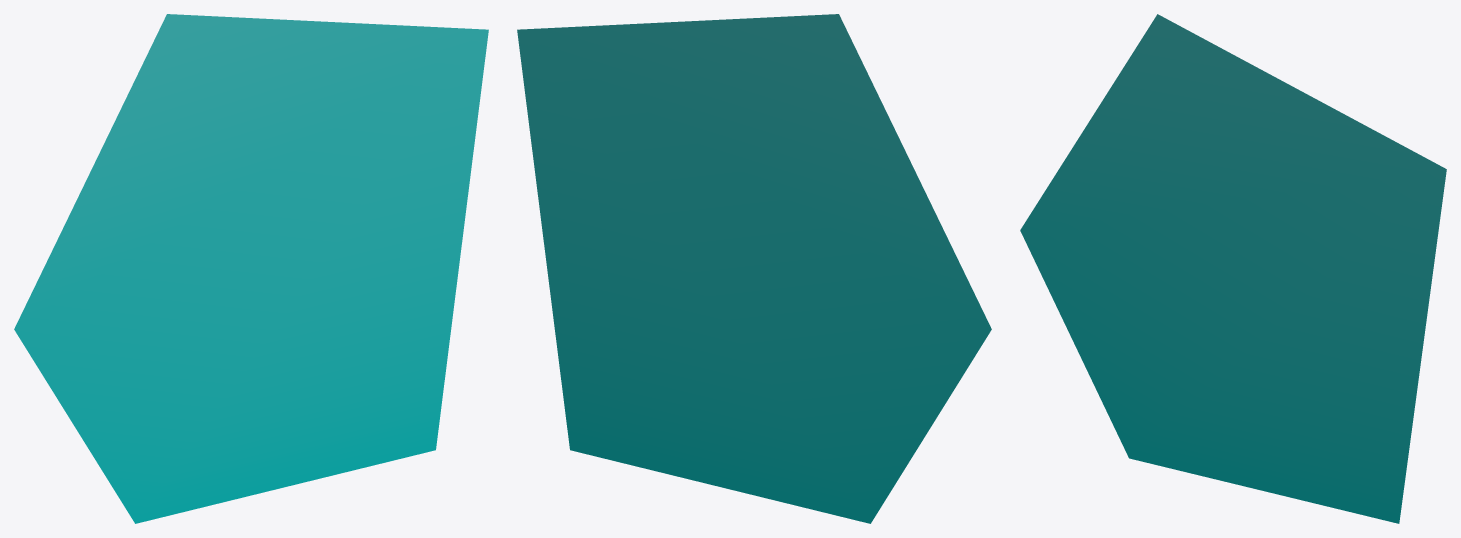
Rendered from Sea_Thrift_vkbgaihha_High_vkbgaihha_VarG_LOD3.fbx.
3 renders of one model, left to right at view 1: azimuth 30°, elevation 25°; view 2: azimuth 150°, elevation 25°; view 3: azimuth 330°, elevation 25°, orthographic. The views are drawn at different scales.
Visible parts, largest first — view 1: _u1v0_VarG_LOD4; view 2: _u1v0_VarG_LOD4; view 3: _u1v0_VarG_LOD4.
Part boxes in pixels (left/top/right/bottom): _u1v0_VarG_LOD4: left=14, top=14, right=488, bottom=523; _u1v0_VarG_LOD4: left=517, top=14, right=991, bottom=523; _u1v0_VarG_LOD4: left=1020, top=14, right=1446, bottom=523.
Bounding box in the file's own units: 12.52 × 12.65 × 0.
